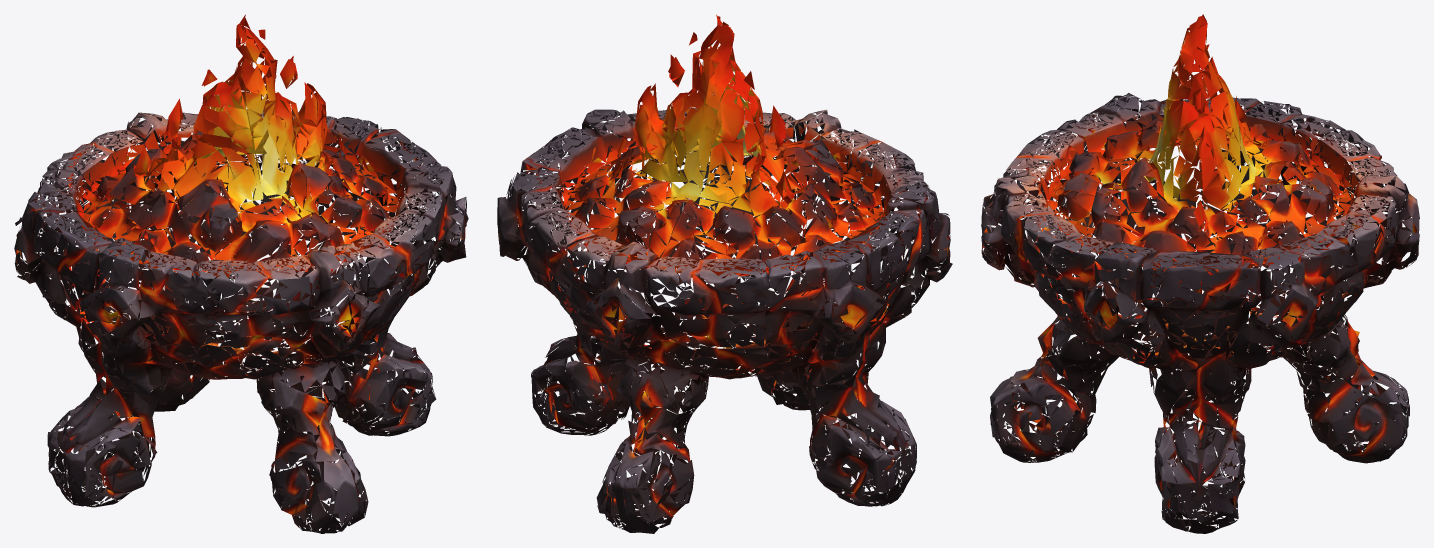
File: Trap_Brazier.fbx
The picture shows the model from 3 angles, left to right: view 1: azimuth 30°, elevation 25°; view 2: azimuth 150°, elevation 25°; view 3: azimuth 270°, elevation 25°; orthographic projection.
Parts seen in each view (by area): view 1: Brazier; view 2: Brazier; view 3: Brazier.
Boxes of the visible parts, x1,y1,x2,y2 form: Brazier: [14, 14, 468, 533]; Brazier: [497, 14, 952, 533]; Brazier: [981, 14, 1419, 533].
Size of the model in its own units: 92.72 by 104 by 93.76.
Materials: 1 (1 with a texture image).
